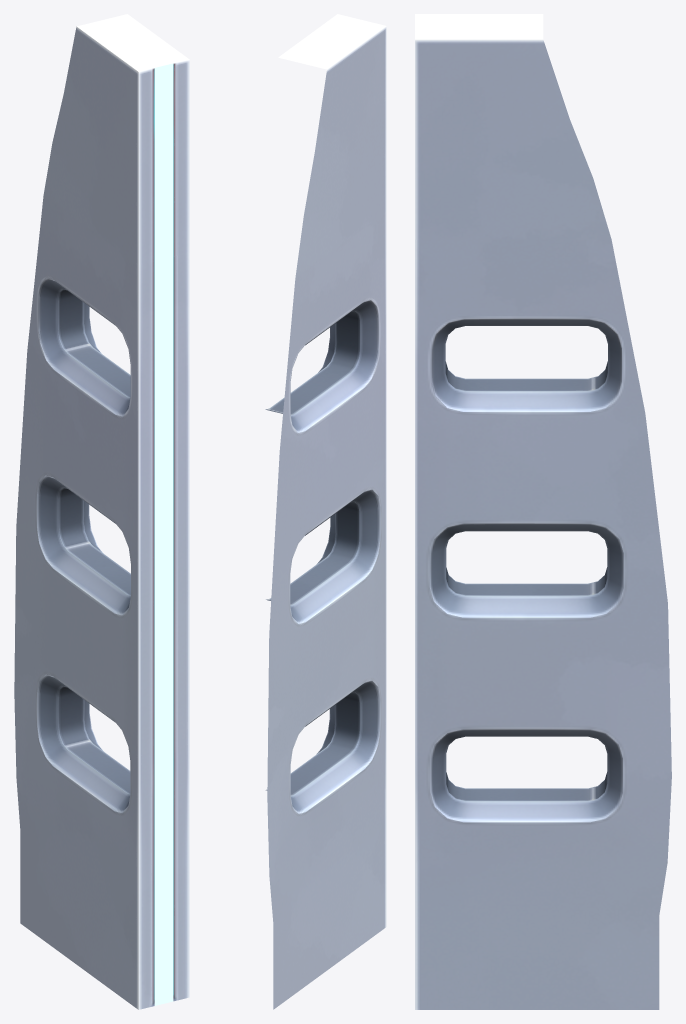
Rendered from obj_wall.gltf.
3 renders of one model, left to right at view 1: azimuth 30°, elevation 25°; view 2: azimuth 150°, elevation 25°; view 3: azimuth 270°, elevation 25°, orthographic. The views are drawn at different scales.
Visible parts, largest first — view 1: obj_wall; view 2: obj_wall; view 3: obj_wall.
Part boxes in pixels (left/top/right/bottom): obj_wall: left=14, top=14, right=189, bottom=1009; obj_wall: left=265, top=14, right=386, bottom=1009; obj_wall: left=415, top=14, right=671, bottom=1009.
Size of what is drawn, in the model's own units: 0.2557 by 4.36 by 1.05.
2 materials, 1 textured.
